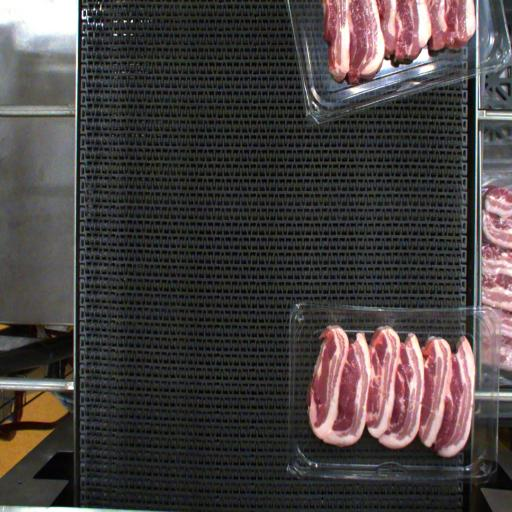packaging-error: (380, 315, 394, 331)
wrinkle: (379, 387, 448, 423)
